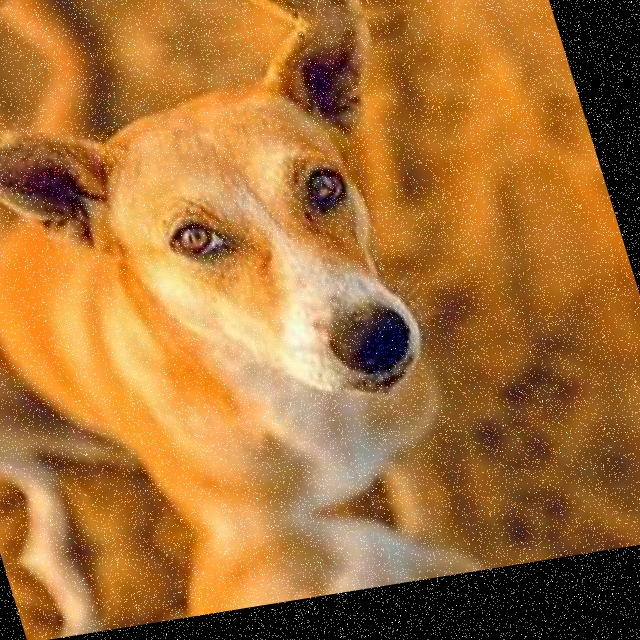dog: (0, 15, 500, 544), (27, 501, 529, 640), (0, 0, 360, 91)
